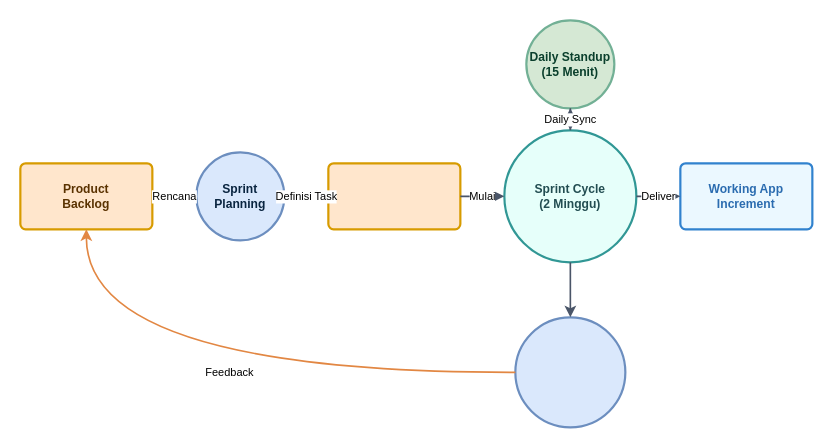
This 832x447 diagram has some shape labels left out. The shapes that lost their labels are listed below. From the top down, each one's centre as x and y in pixels, then its label:
At point (394, 196): "Sprint Backlog".
At point (570, 372): "Sprint Review & Retrospective".
